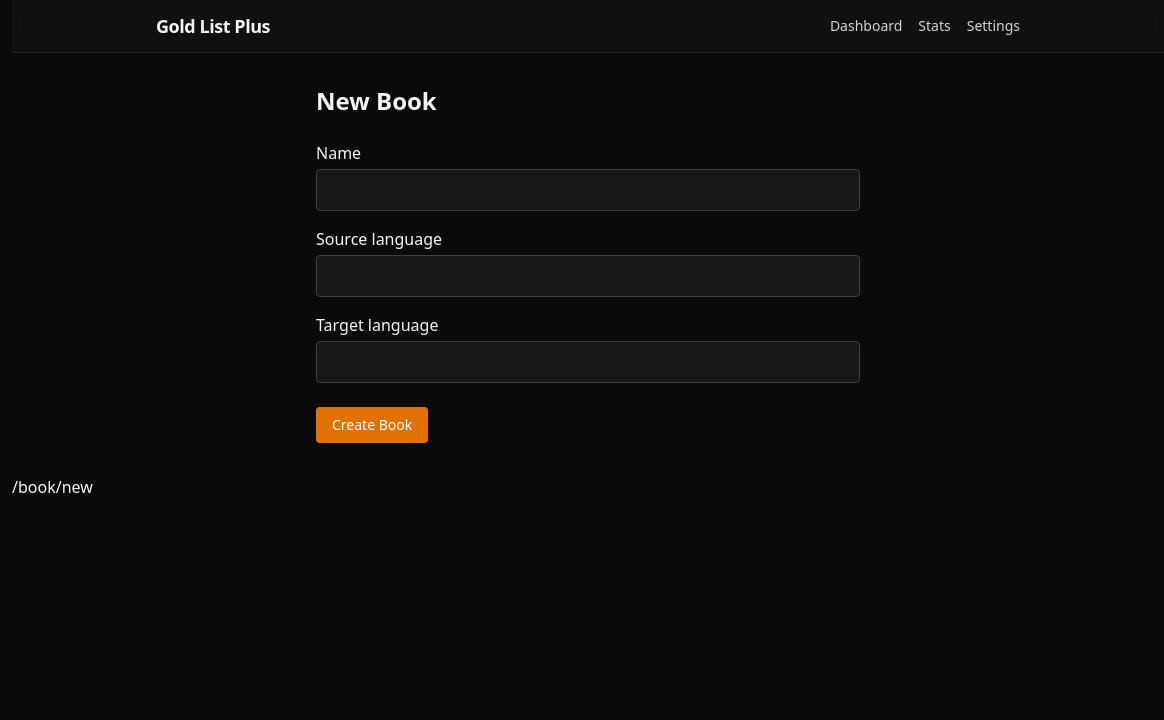
TASK-010 AC-4: typing into a field clears that field's error › TASK-010 AC-4: typing into name clears error-name but leaves error-sourceLang/error-targetLang intact
Note: Establish all three errors first.
Click the button "Create Book" at (372,425), box [316,407,428,443]
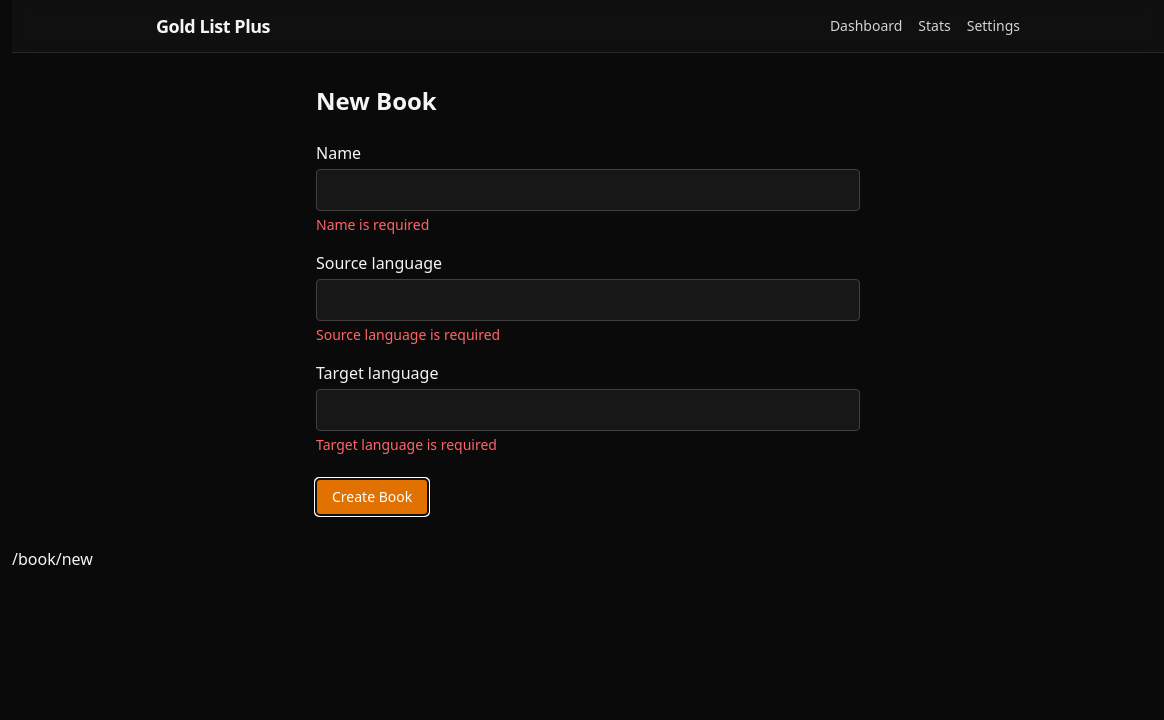
Expected: the message "Name is required" is shown, [316,215,429,234]
Expected: the message "Source language is required" is shown, [316,325,500,344]
Expected: the message "Target language is required" is shown, [316,435,497,454]
Note: Type into name only.
Type "Japanese" into the field labelled "Name" at (588,190), box [316,169,860,211]
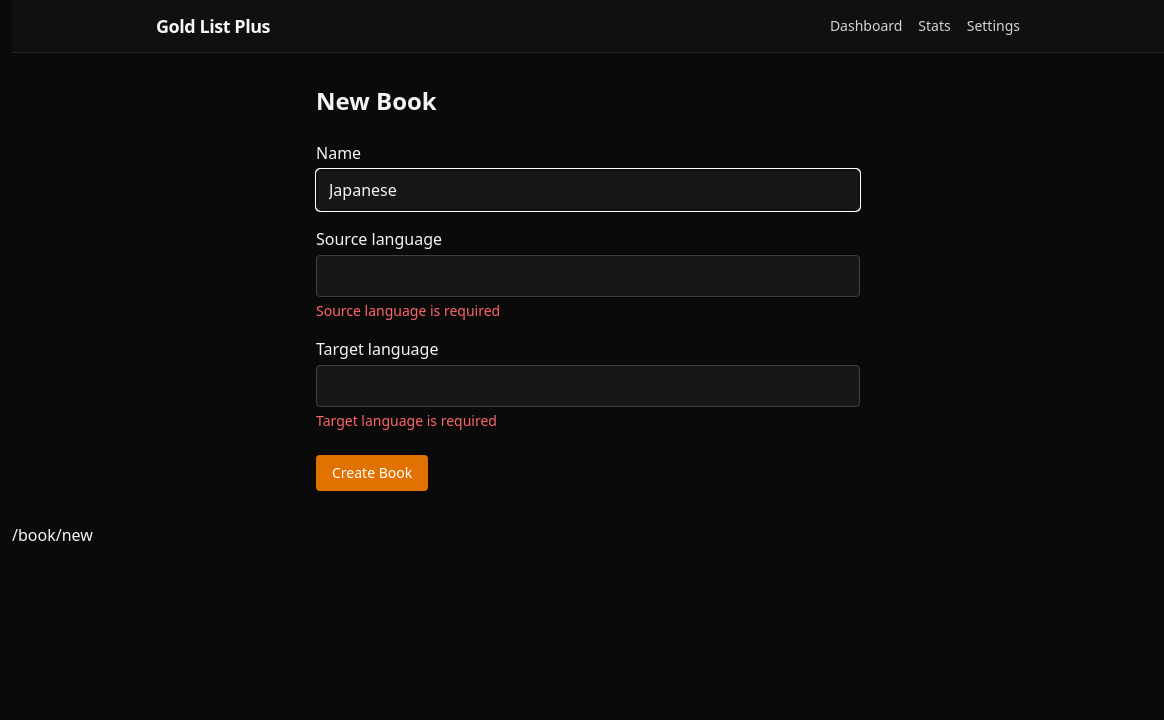
Expected: the message "Source language is required" is shown, [316,301,500,320]
Expected: the message "Target language is required" is shown, [316,411,497,430]
Expected: the message with test id "error-name" is gone
